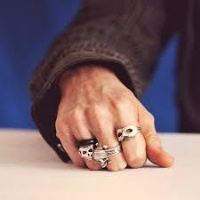ring: (74, 130, 104, 175)
